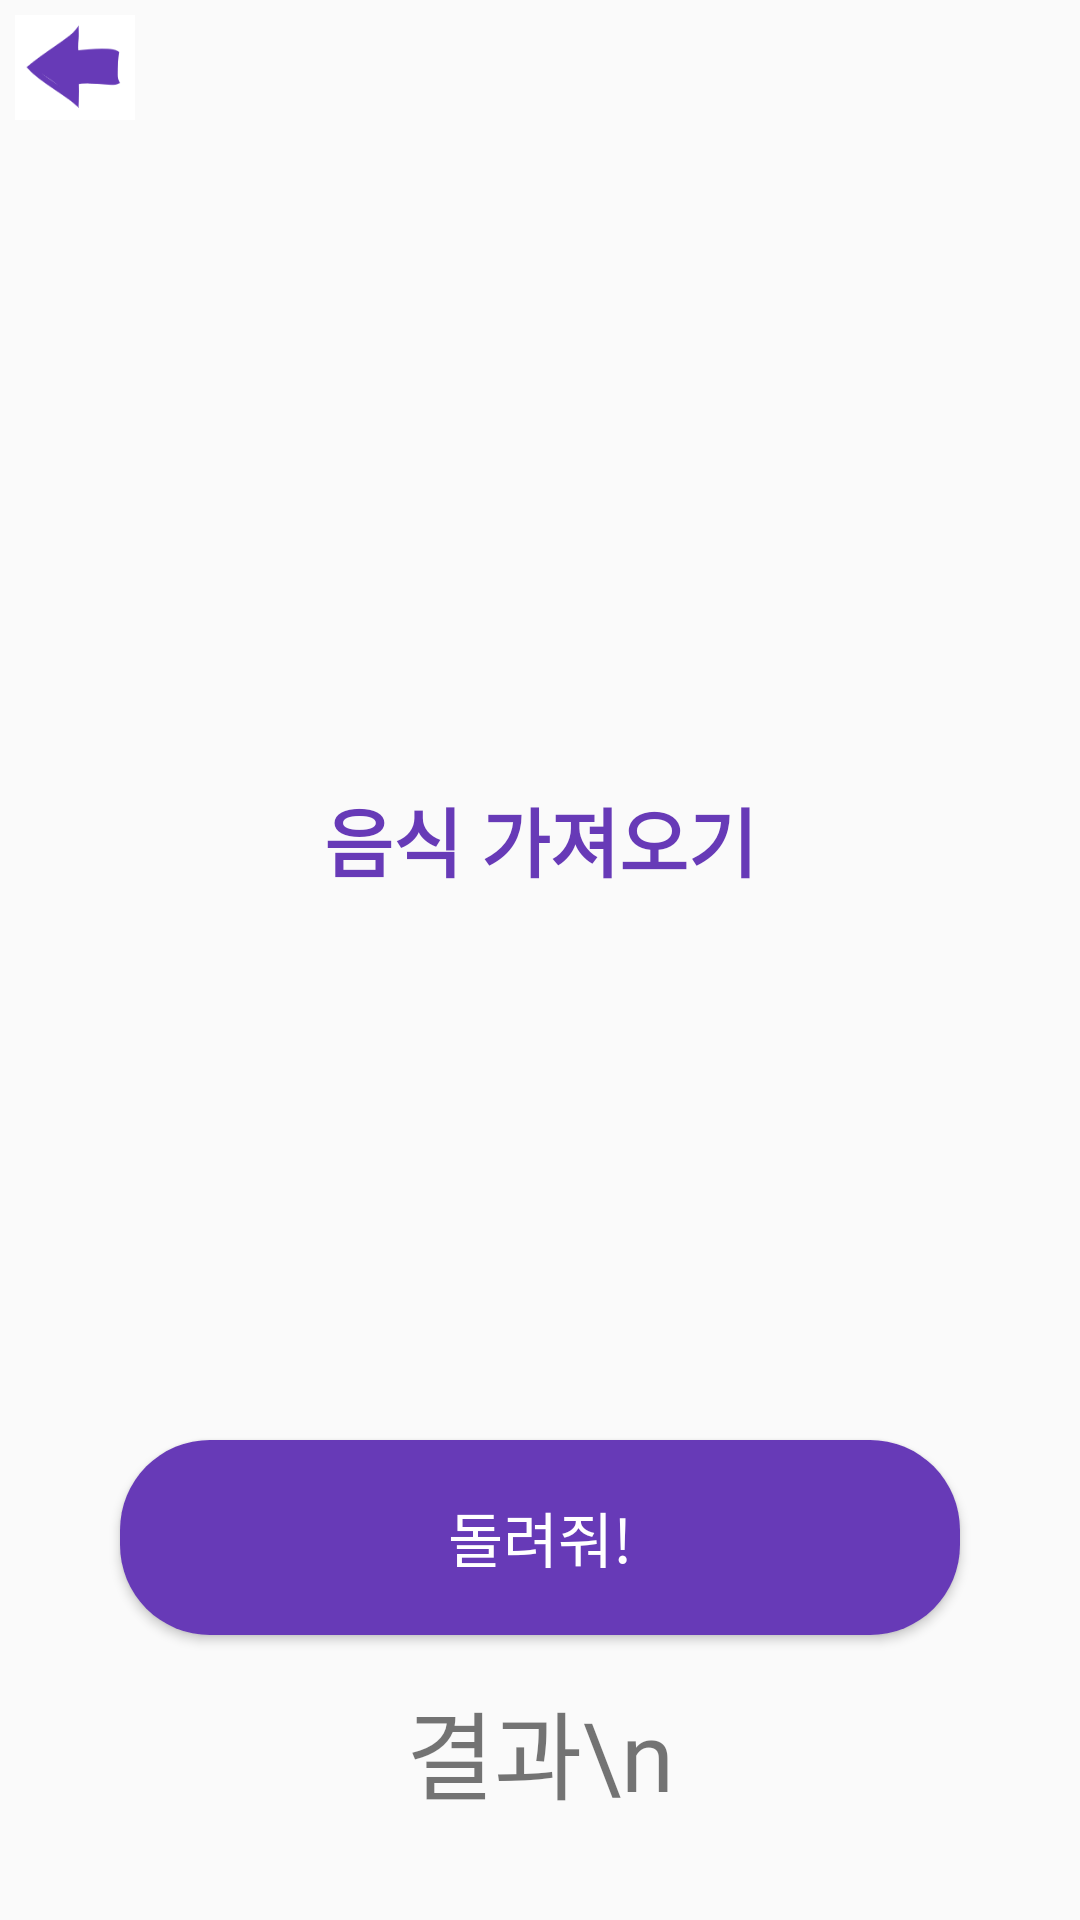

Screen size 1080w x 1920h. Icon name, then its center in pixels as (x=x, y=y):
back: (x=73, y=66)
